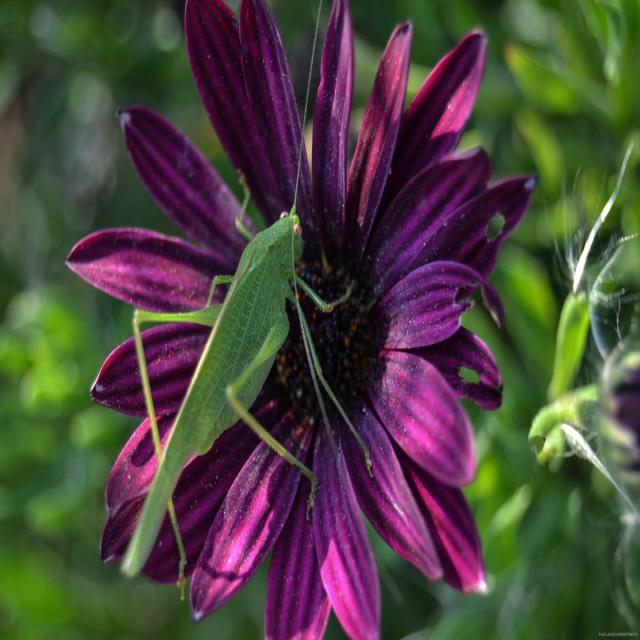ZhaMeng: (111, 178, 331, 592)
